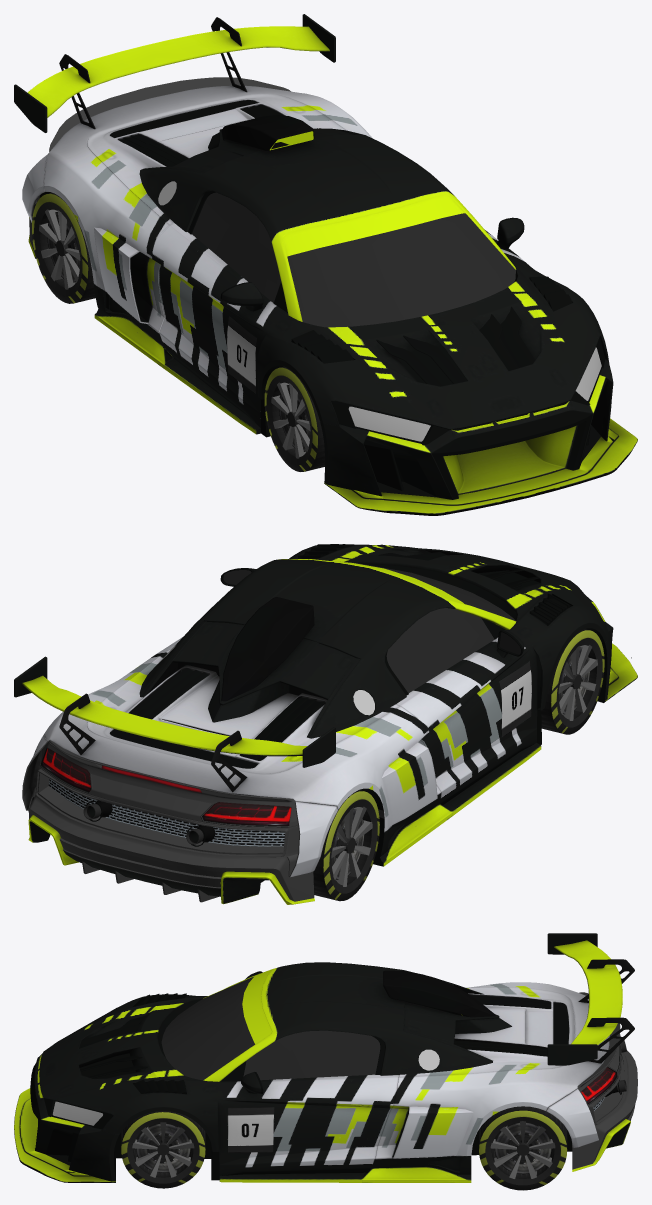
The model's file is New Car.fbx.
3 views of the same model, one above another, from view 1: azimuth 30°, elevation 25°; view 2: azimuth 150°, elevation 25°; view 3: azimuth 270°, elevation 25° (orthographic). The views are drawn at different scales.
Parts seen in each view (by area): view 1: body, model_8_Mesh6, model_8_Mesh5; view 2: body, model_8_Mesh6, model_8_Mesh5; view 3: body, model_8_Mesh8, model_8_Mesh7.
Part boxes in pixels (bbox=[...]): body: bbox=[14, 14, 637, 515]; model_8_Mesh6: bbox=[32, 192, 95, 303]; model_8_Mesh5: bbox=[264, 366, 324, 471]; body: bbox=[14, 544, 637, 904]; model_8_Mesh6: bbox=[313, 790, 379, 901]; model_8_Mesh5: bbox=[541, 629, 604, 734]; body: bbox=[14, 933, 637, 1182]; model_8_Mesh8: bbox=[479, 1106, 567, 1190]; model_8_Mesh7: bbox=[121, 1111, 205, 1188].
Size of the model in its own units: 287 by 178 by 645.
